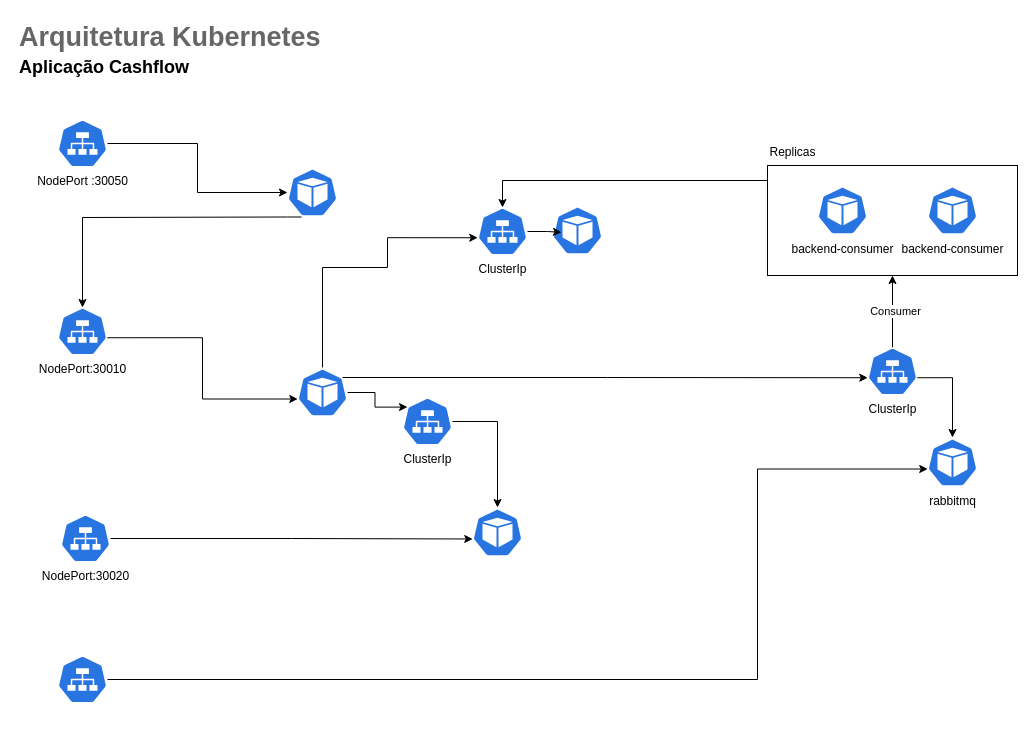
Image size: 1035x741. Some labels were removed from this diagram. Each missing label, with the centre of its shape:
backend-producer: the point at 322,392
database: the point at 577,230
frontend: the point at 312,192
NodePort:30030: the point at 82,679
seqlog: the point at 497,532
